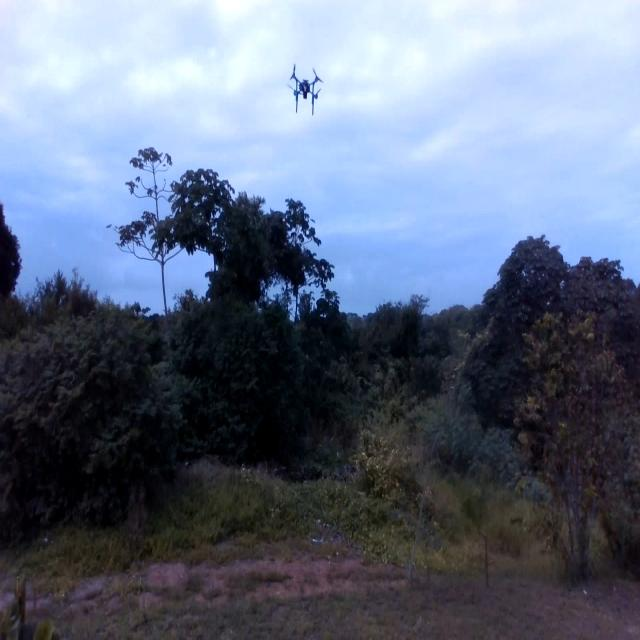-uav-: (280, 54, 328, 128)
